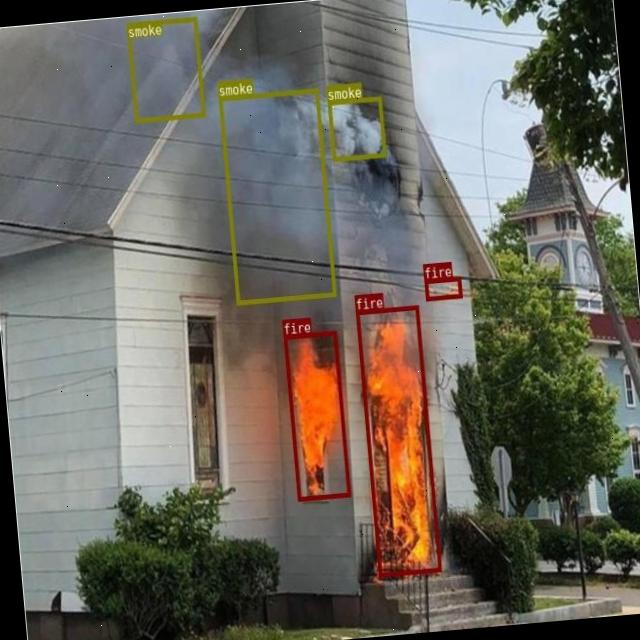fire: (356, 304, 440, 576), (283, 330, 350, 500), (424, 276, 462, 300)
smoke: (218, 88, 335, 304), (126, 15, 204, 121), (327, 96, 385, 160)
